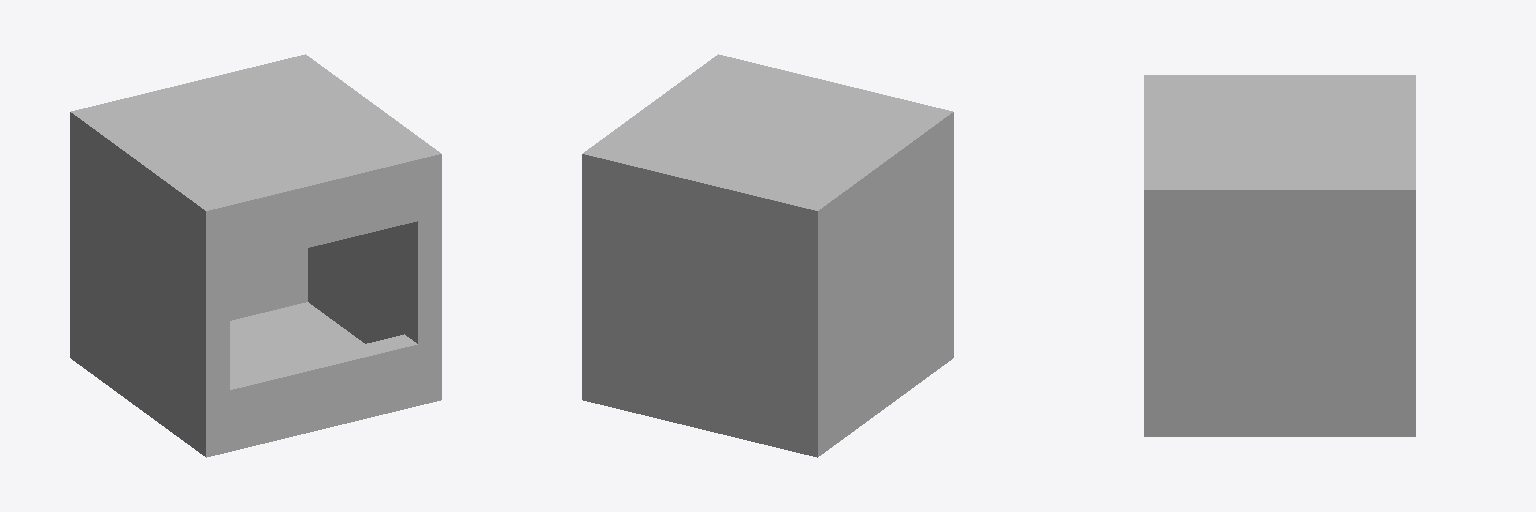
The model's file is base_center.obj.
The picture shows the model from 3 angles: view 1: azimuth 30°, elevation 25°; view 2: azimuth 150°, elevation 25°; view 3: azimuth 270°, elevation 25°; orthographic projection.
Parts seen in each view (by area): view 1: base_center.obj; view 2: base_center.obj; view 3: base_center.obj.
Part boxes in pixels (x1,y1,x2,y2): base_center.obj: (70, 54, 441, 457); base_center.obj: (582, 54, 953, 457); base_center.obj: (1144, 75, 1415, 436).
Size of the model in its own units: 10 by 10 by 10.